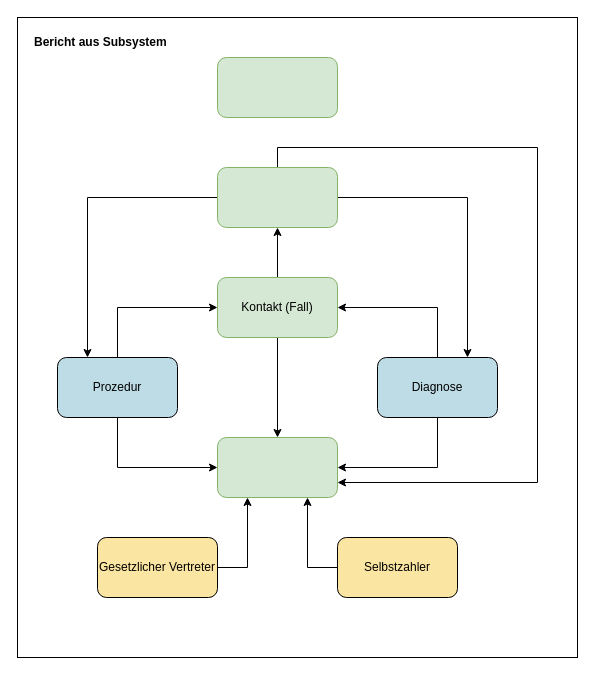
This 595x675 diagram has some shape labels left out. The centre of each missing label's shape, as x and y in pixels:
Abrechnungsfall: the point at 277,197
Patient: the point at 277,467
Person im Gesundheitsberuf: the point at 277,87
